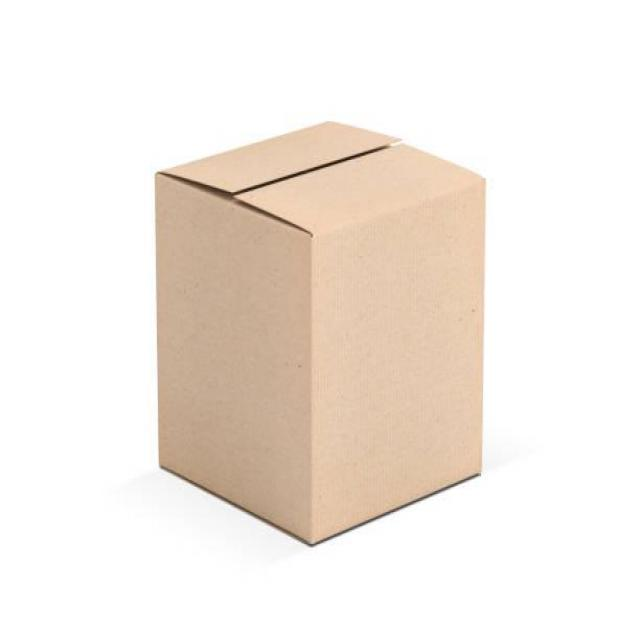box: (150, 116, 486, 548)
